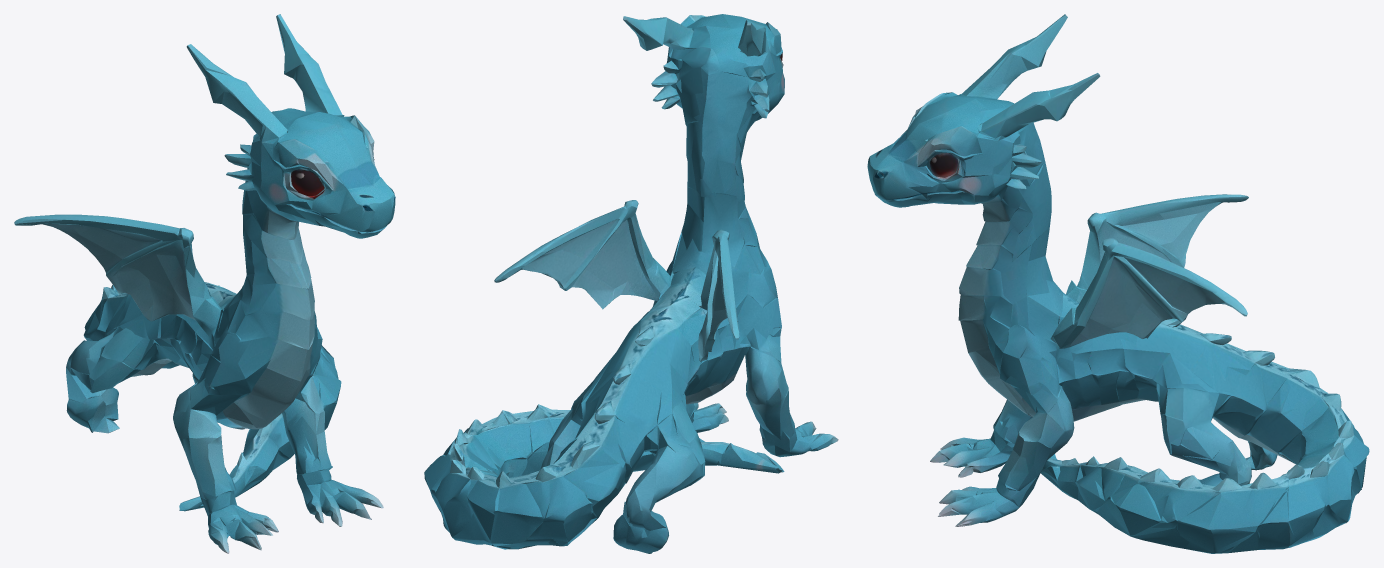
Rendered from skill-ts.glb.
3 renders of one model, left to right at view 1: azimuth 30°, elevation 25°; view 2: azimuth 150°, elevation 25°; view 3: azimuth 270°, elevation 25°, orthographic. The views are drawn at different scales.
Size of the model in its own units: 1.28 by 1.87 by 1.9.
1 material, 1 textured.
